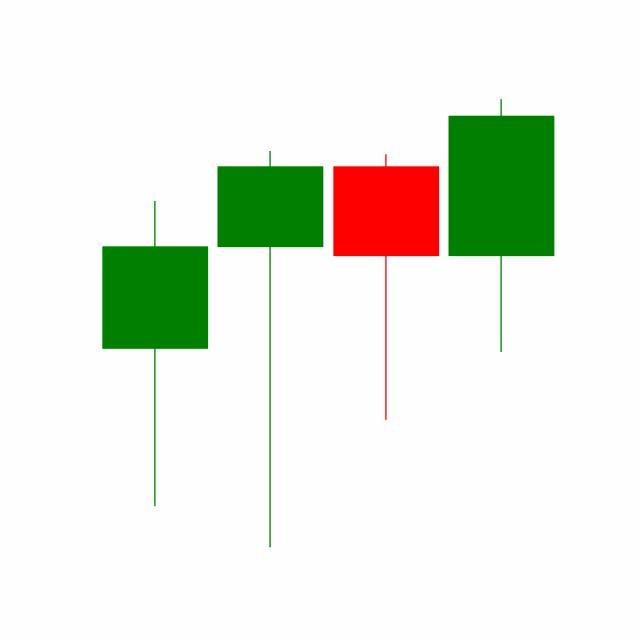Marubozu: (444, 97, 560, 356)
